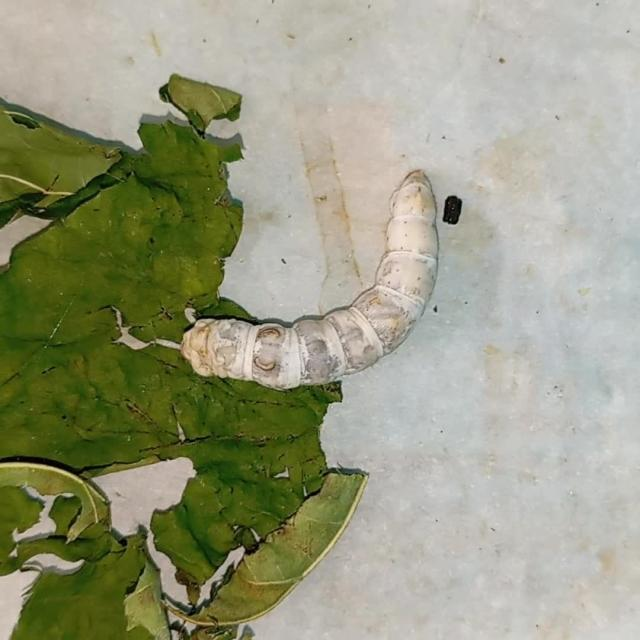Grasserie: (175, 162, 454, 400)
